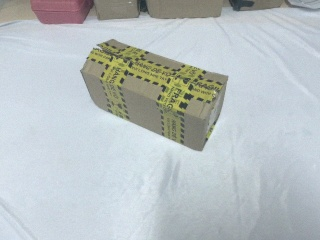box: (80, 38, 229, 153), (139, 1, 231, 19)
